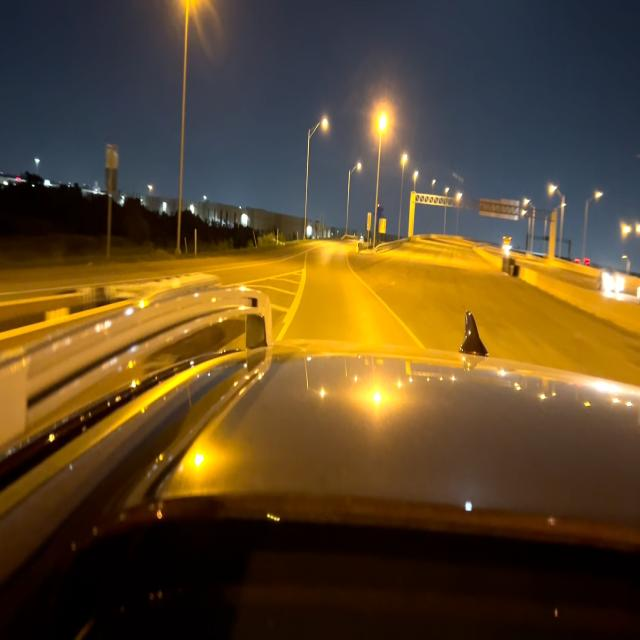back-of-sign: (105, 140, 117, 196)
